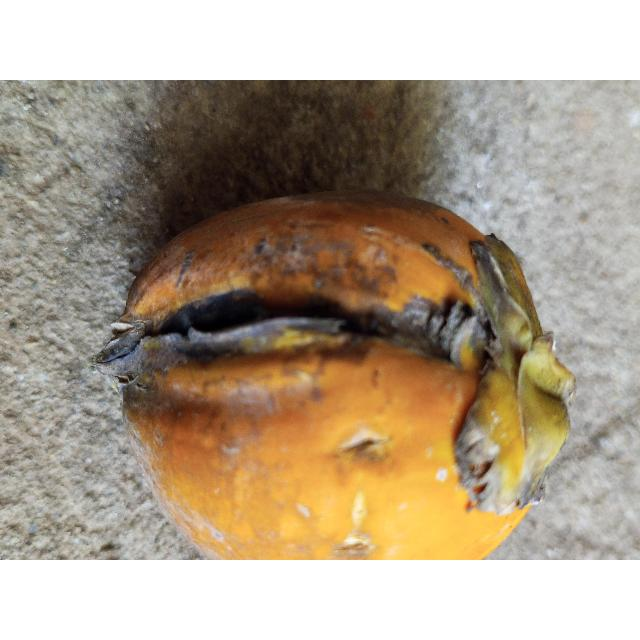damaged: (95, 191, 574, 560)
